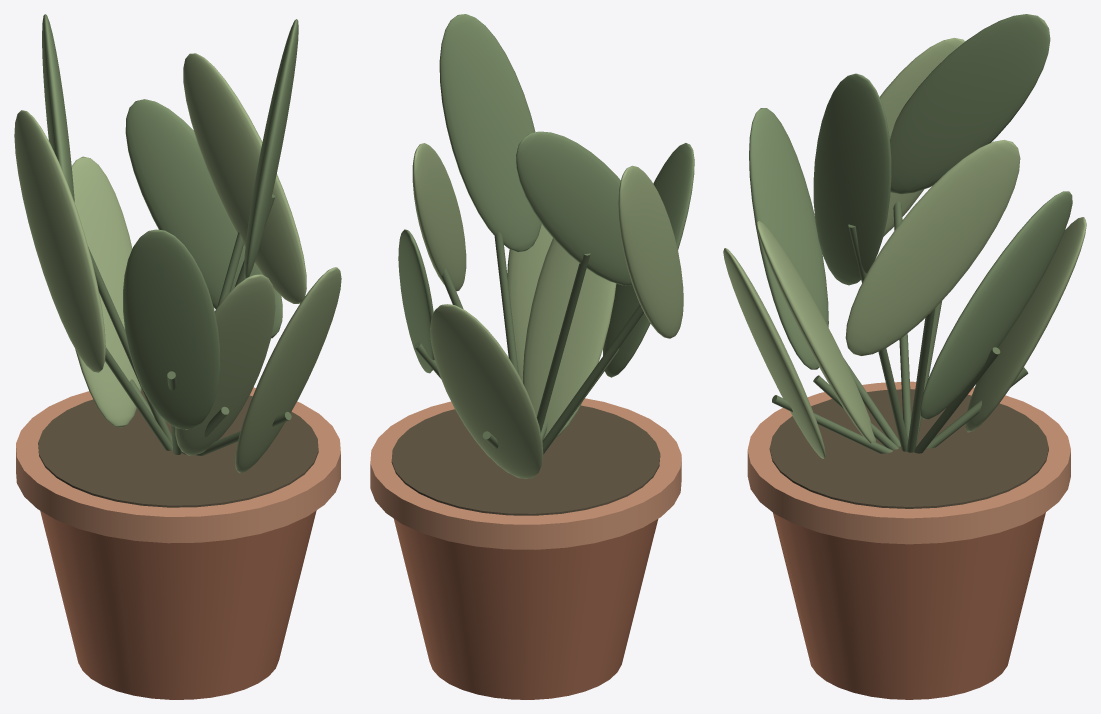
The model's file is plant.glb.
The picture shows the model from 3 angles, left to right: view 1: azimuth 30°, elevation 25°; view 2: azimuth 150°, elevation 25°; view 3: azimuth 270°, elevation 25°; orthographic projection. The views are drawn at different scales.
Visible parts, largest first — view 1: Leaf (×9), Terracotta pot, Soil, Pot rim, Stem (×4); view 2: Leaf (×9), Terracotta pot, Soil, Pot rim, Stem (×3); view 3: Leaf (×9), Terracotta pot, Soil, Pot rim, Stem (×7).
Boxes of the visible parts, x1=… form: Leaf (×9): x1=14, y1=14, x2=341, y2=473; Terracotta pot: x1=40, y1=510, x2=316, y2=699; Soil: x1=38, y1=389, x2=318, y2=507; Pot rim: x1=16, y1=387, x2=340, y2=543; Stem (×4): x1=88, y1=232, x2=291, y2=455; Leaf (×9): x1=398, y1=14, x2=694, y2=478; Terracotta pot: x1=393, y1=518, x2=658, y2=699; Soil: x1=391, y1=405, x2=660, y2=515; Pot rim: x1=370, y1=398, x2=681, y2=549; Stem (×3): x1=494, y1=232, x2=643, y2=453; Leaf (×9): x1=723, y1=14, x2=1086, y2=458; Terracotta pot: x1=773, y1=512, x2=1045, y2=699; Soil: x1=769, y1=389, x2=1048, y2=508; Pot rim: x1=747, y1=381, x2=1070, y2=544; Stem (×7): x1=772, y1=201, x2=1028, y2=453.
Bounding box in the file's own units: 0.452 × 0.968 × 0.5076.
